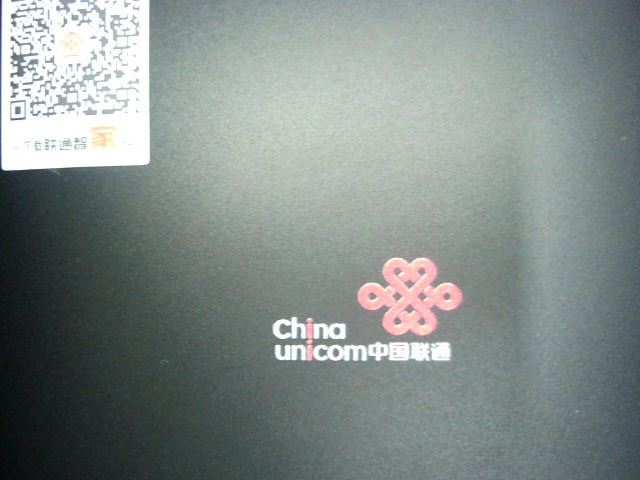AC_ChinaUnicom: (259, 254, 464, 371)
